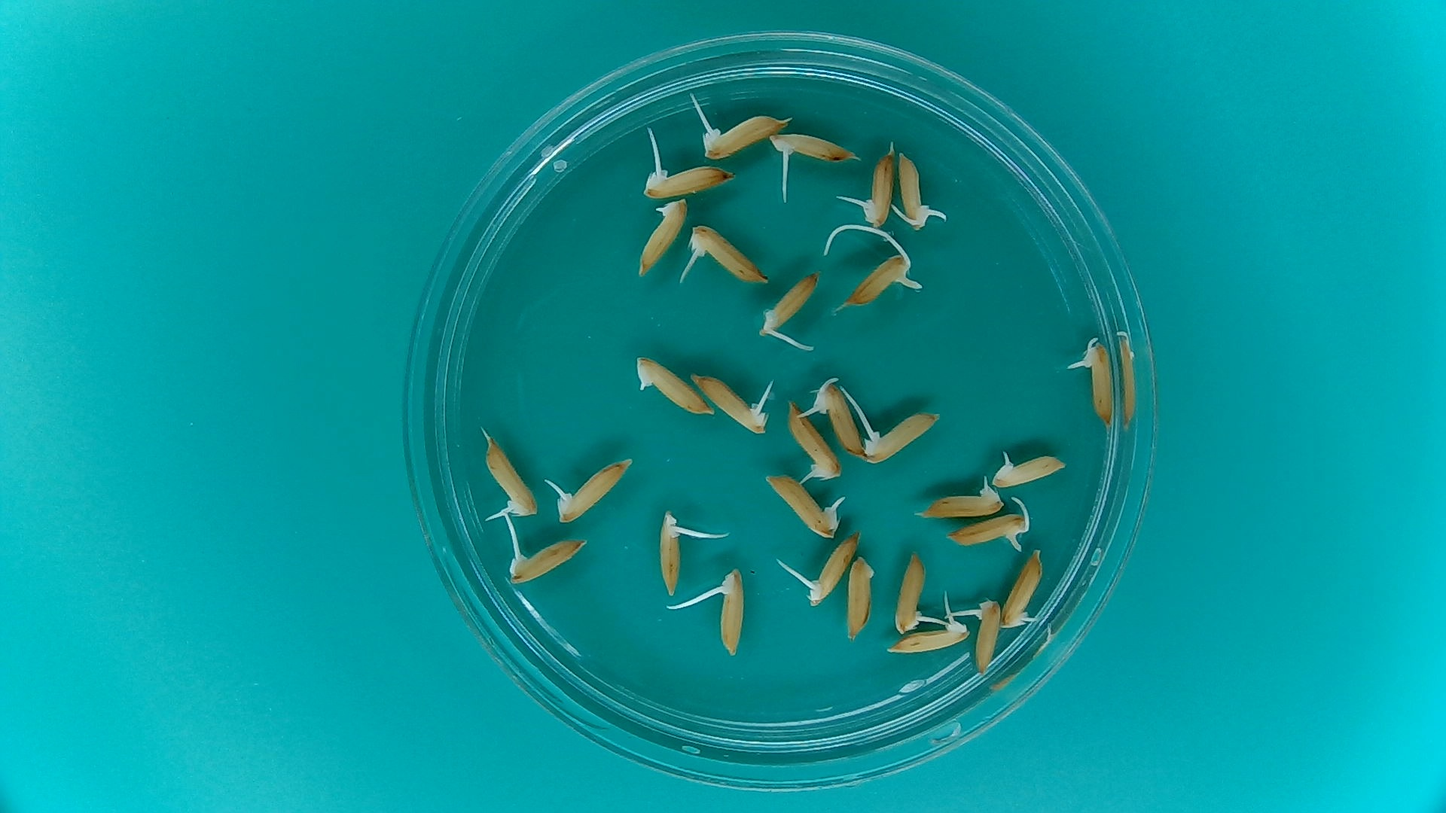no: (630, 351, 715, 417), (844, 553, 879, 642)
yes: (554, 453, 635, 524), (764, 475, 844, 538), (692, 224, 767, 290), (692, 372, 768, 436), (859, 410, 941, 466), (810, 379, 866, 458), (760, 271, 821, 343), (787, 403, 842, 481), (484, 443, 540, 519), (505, 537, 587, 586), (634, 195, 686, 271), (706, 113, 782, 163), (1078, 337, 1120, 426), (1000, 550, 1045, 632), (805, 534, 859, 602), (849, 249, 915, 303), (989, 448, 1069, 489), (950, 507, 1034, 546), (639, 163, 729, 199), (886, 618, 966, 656), (892, 556, 929, 635), (717, 568, 749, 659), (654, 513, 687, 601), (918, 489, 1008, 521), (770, 131, 848, 166), (897, 160, 934, 233), (971, 595, 1002, 676), (861, 155, 895, 227)
